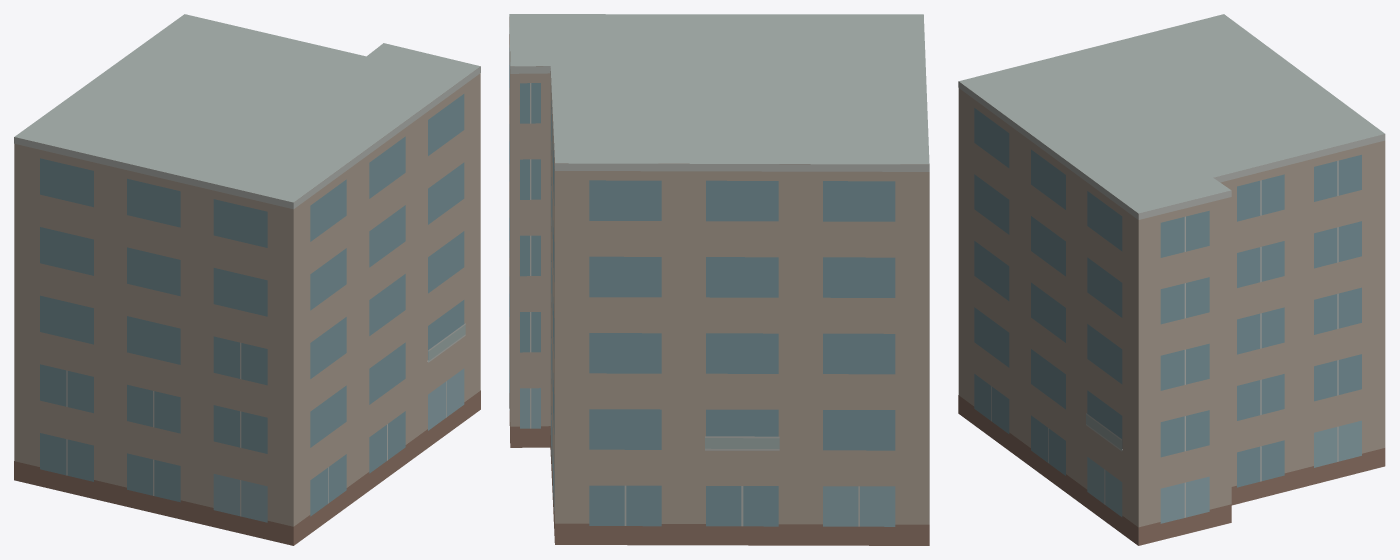
The model's file is survey-upis-32826906.glb.
The picture shows the model from 3 angles, left to right: view 1: azimuth 30°, elevation 25°; view 2: azimuth 150°, elevation 25°; view 3: azimuth 270°, elevation 25°; orthographic projection. The views are drawn at different scales.
Visible parts, largest first — view 1: survey-upis-32826906.tmp; view 2: survey-upis-32826906.tmp; view 3: survey-upis-32826906.tmp.
Boxes of the visible parts, x1,y1,x2,y2 form: survey-upis-32826906.tmp: (14, 14, 480, 545); survey-upis-32826906.tmp: (509, 14, 929, 545); survey-upis-32826906.tmp: (958, 14, 1385, 545).
Size of the model in its own units: 15.97 by 12.4 by 14.44.
